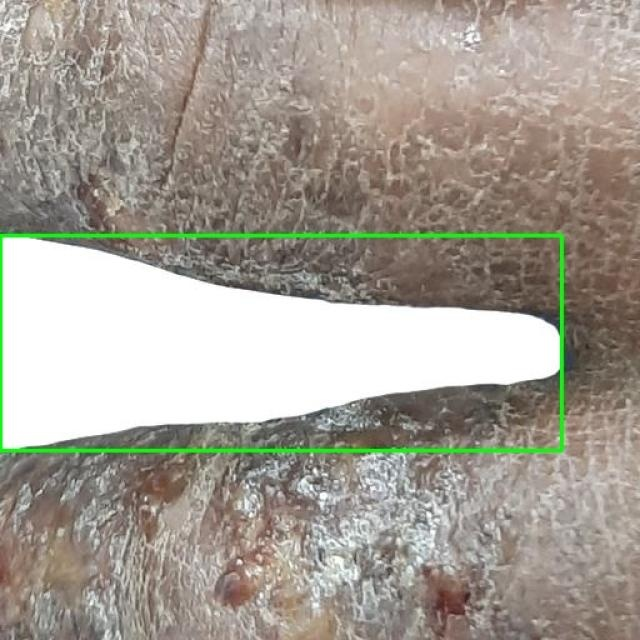Eczema: (0, 235, 561, 450)
